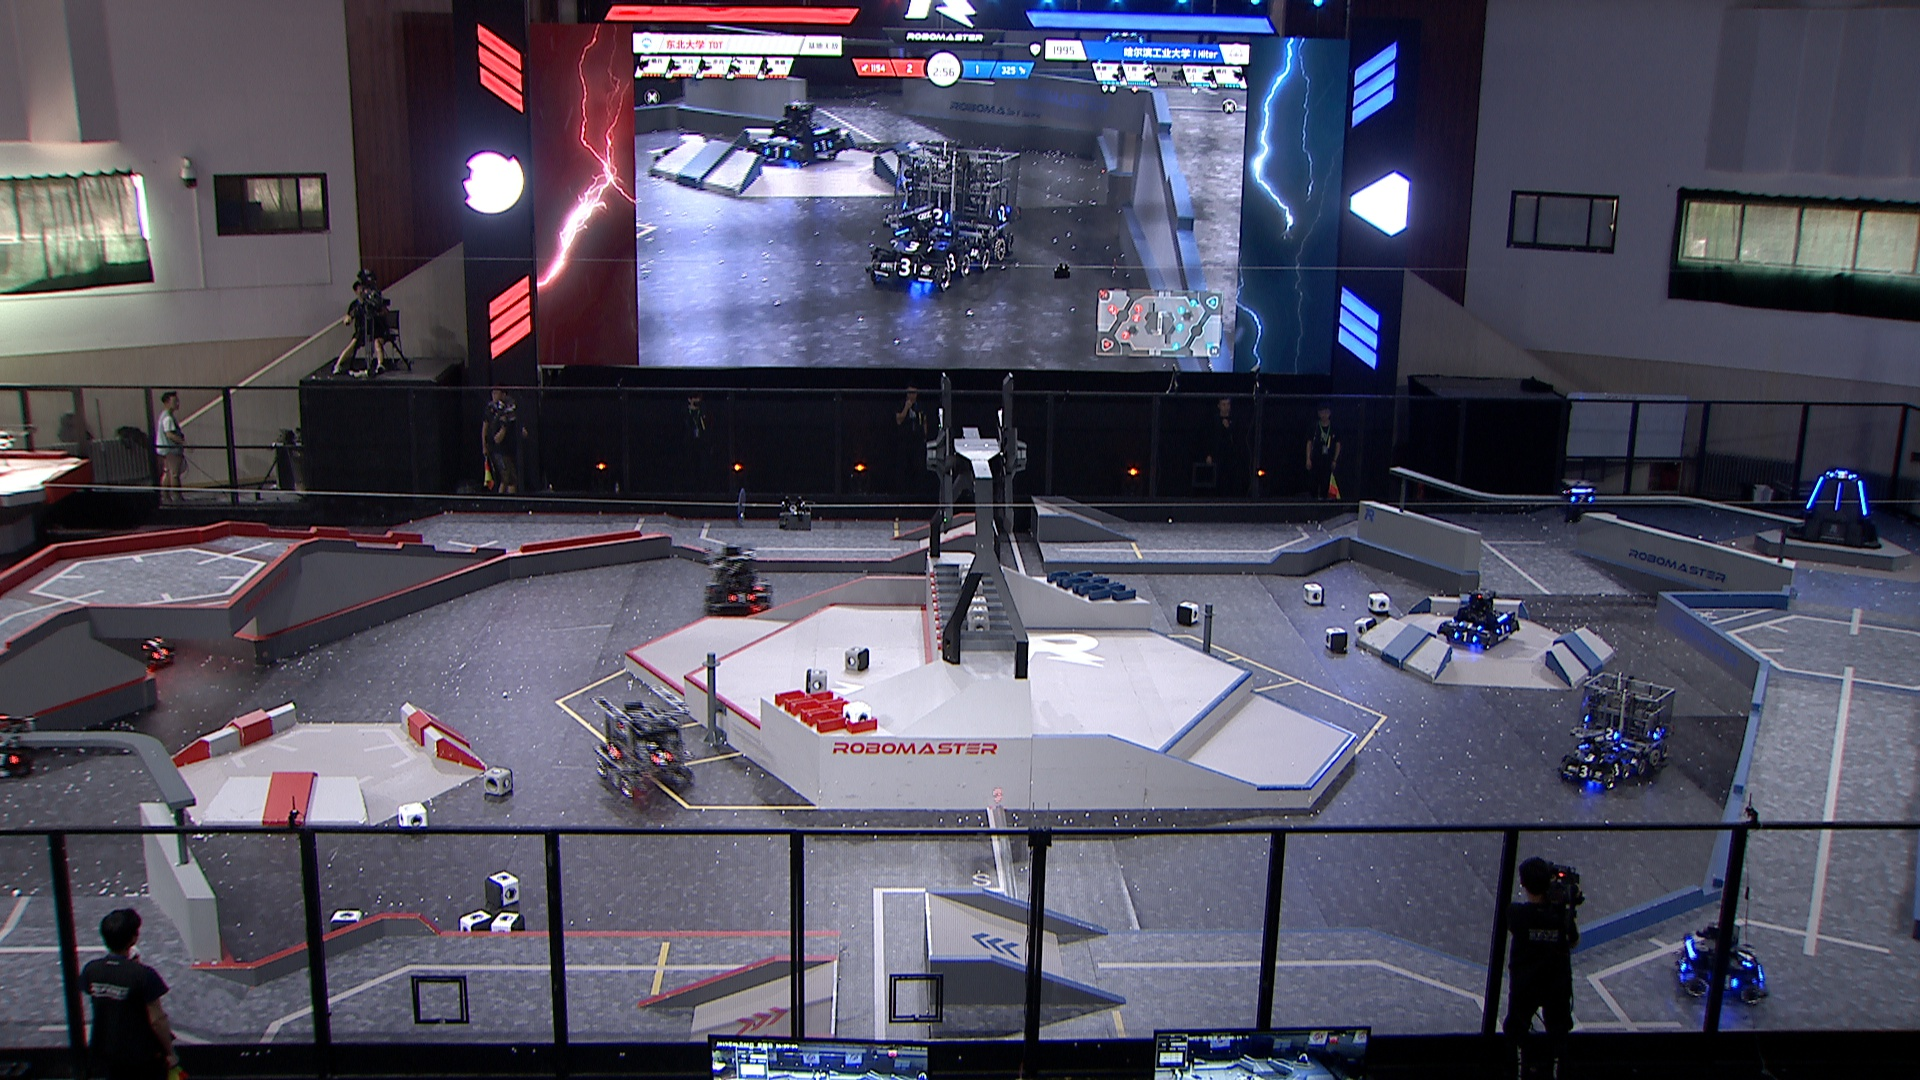armor: (1807, 473, 1826, 513), (1855, 477, 1869, 517), (1735, 945, 1755, 971), (728, 591, 757, 605), (1452, 629, 1480, 644), (647, 750, 674, 765), (138, 636, 162, 651), (605, 742, 622, 764), (1457, 618, 1484, 632), (1724, 973, 1742, 992), (1571, 495, 1596, 508), (1833, 483, 1844, 513), (1830, 469, 1855, 481), (1577, 765, 1596, 781), (1675, 953, 1689, 972), (1604, 727, 1621, 741), (1581, 752, 1600, 765), (1609, 761, 1623, 777), (1651, 727, 1665, 742), (152, 647, 169, 661), (1493, 622, 1510, 636)
base: (1780, 467, 1884, 550)
car: (589, 687, 694, 798), (1569, 671, 1673, 775), (1669, 920, 1771, 1007), (1437, 585, 1522, 654), (700, 542, 773, 618), (1556, 737, 1633, 793), (102, 618, 173, 676)
ignore: (884, 145, 1021, 268), (862, 208, 975, 291), (746, 100, 851, 167)
watcher: (1557, 477, 1598, 526)
